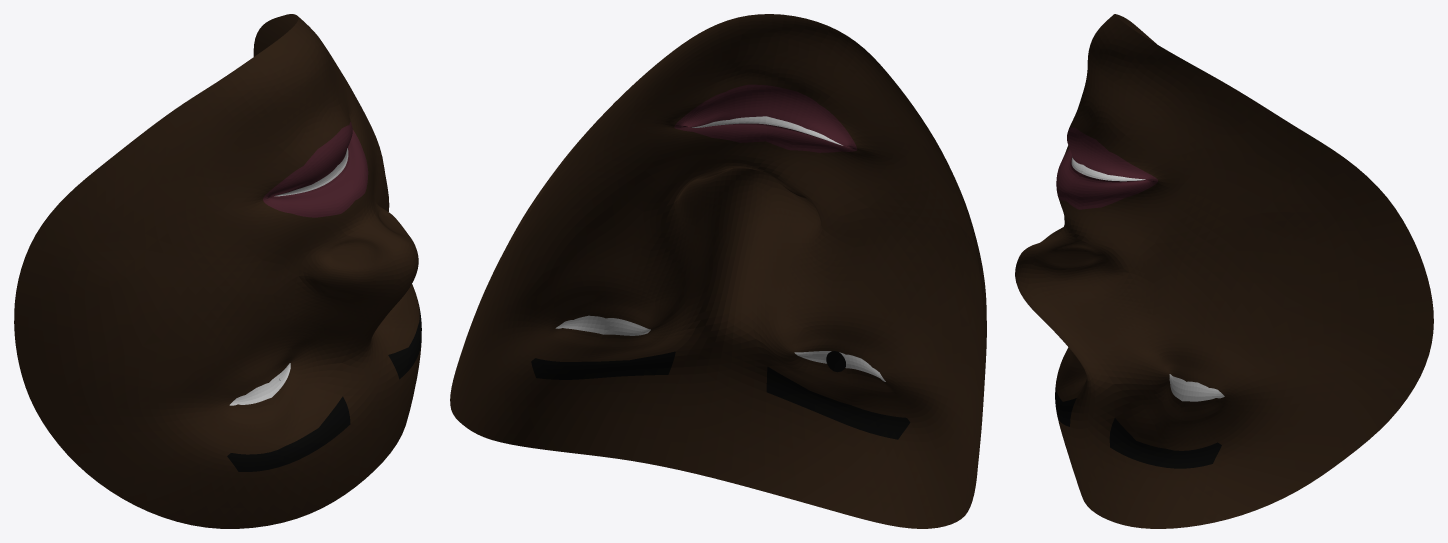
Rendered from frame_00095.obj.
The picture shows the model from 3 angles, left to right: view 1: azimuth 30°, elevation 25°; view 2: azimuth 150°, elevation 25°; view 3: azimuth 270°, elevation 25°; orthographic projection. The views are drawn at different scales.
Parts seen in each view (by area): view 1: face_mesh_subdivided; view 2: face_mesh_subdivided; view 3: face_mesh_subdivided.
Part boxes in pixels (bbox=[...]): face_mesh_subdivided: bbox=[14, 14, 421, 528]; face_mesh_subdivided: bbox=[450, 14, 986, 528]; face_mesh_subdivided: bbox=[1015, 14, 1433, 528].
Size of the model in its own units: 0.4985 by 0.5366 by 0.436.
